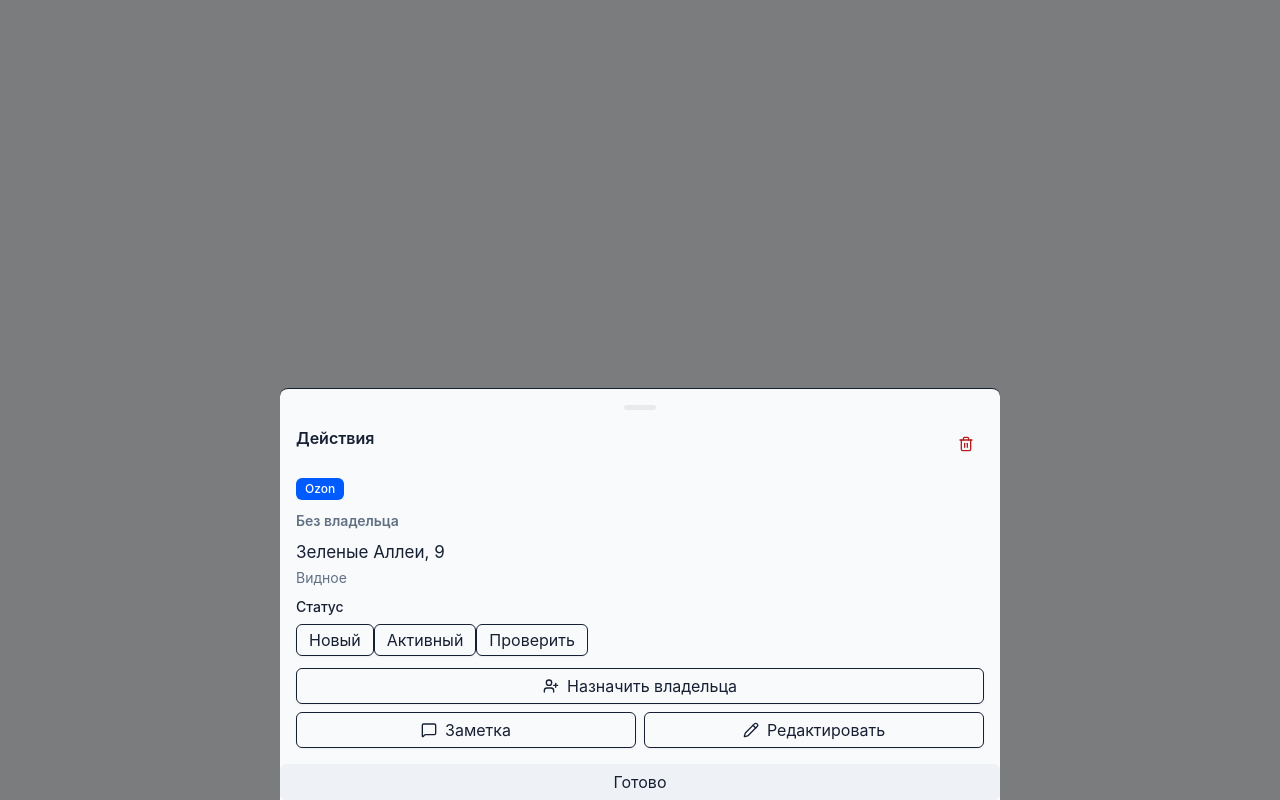
Test: PointActionDialogs owner flow › returns to details after assigning owner from the details step
The image size is (1280, 800).
Click the button "Назначить владельца".
click(640, 686)  # box [296, 668, 984, 704]
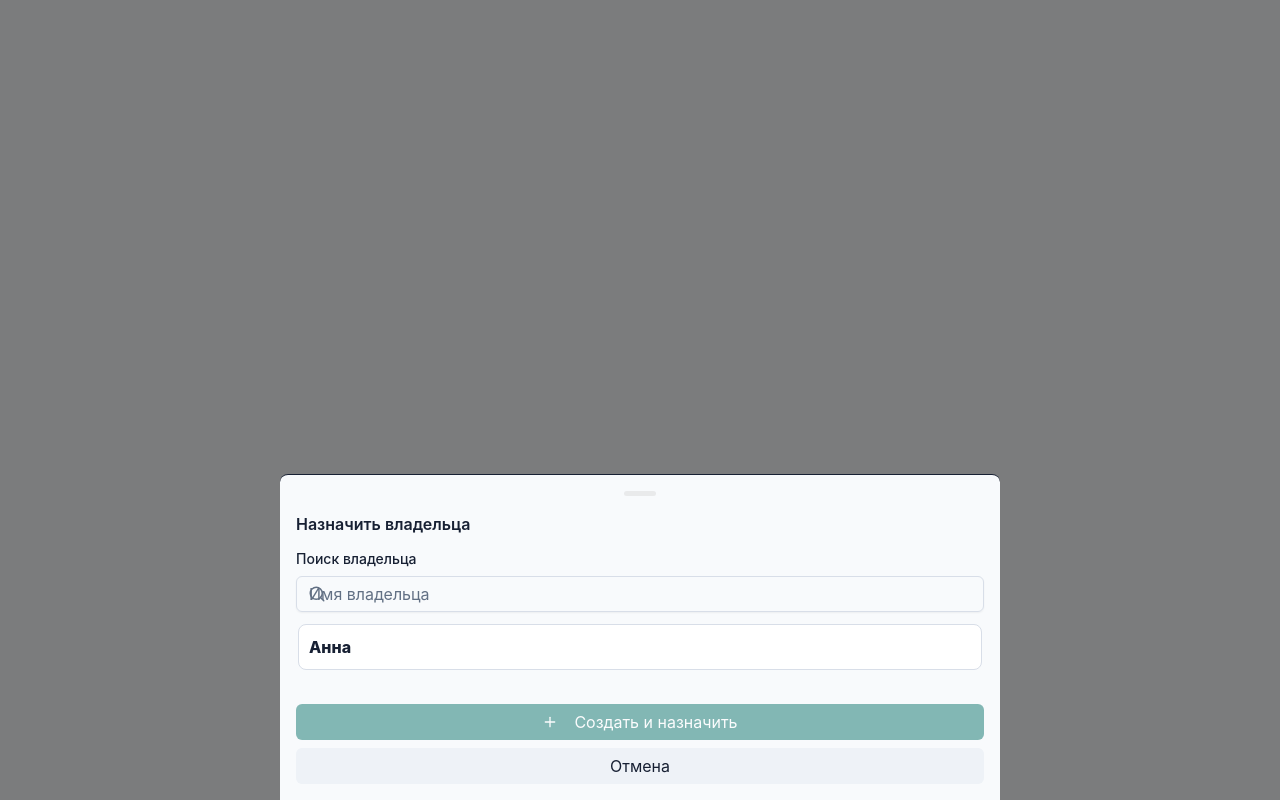
Expected: the heading "Назначить владельца" is shown, [296, 512, 470, 536]
Click the button "Анна".
click(330, 647)  # box [298, 624, 982, 670]
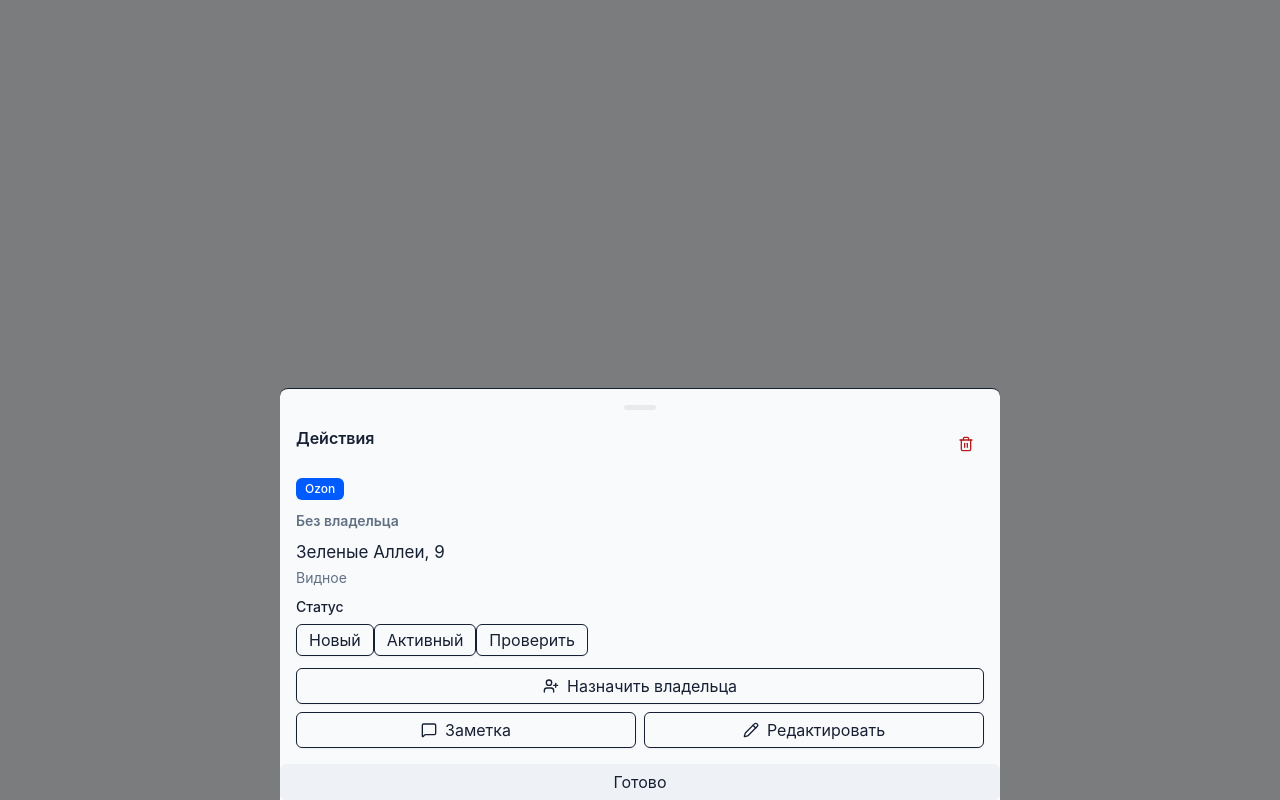
Expected: the heading "Действия" is shown, [296, 426, 374, 450]
